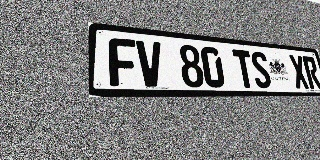0: (200, 46, 225, 88)
8: (178, 44, 205, 87)
F: (108, 37, 138, 87)
R: (302, 56, 320, 89)
S: (249, 51, 273, 88)
T: (232, 49, 256, 88)
V: (136, 40, 164, 87)
X: (288, 55, 310, 89)
